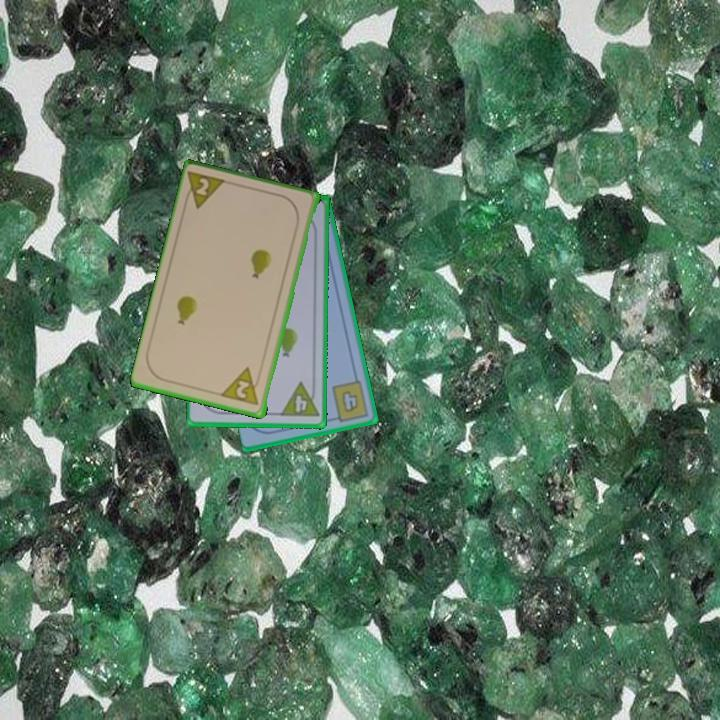2p: (181, 168, 230, 213), (219, 364, 263, 409)
4b: (328, 377, 372, 424)
4p: (277, 379, 322, 420)
